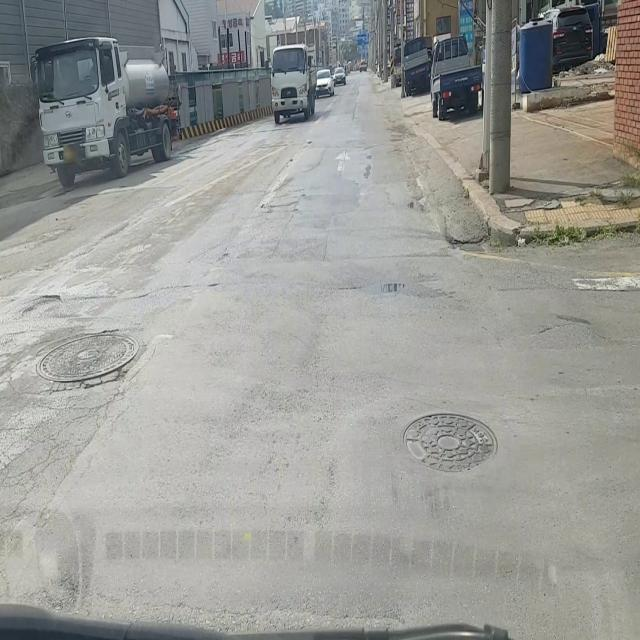Pothole: (32, 325, 142, 393)
